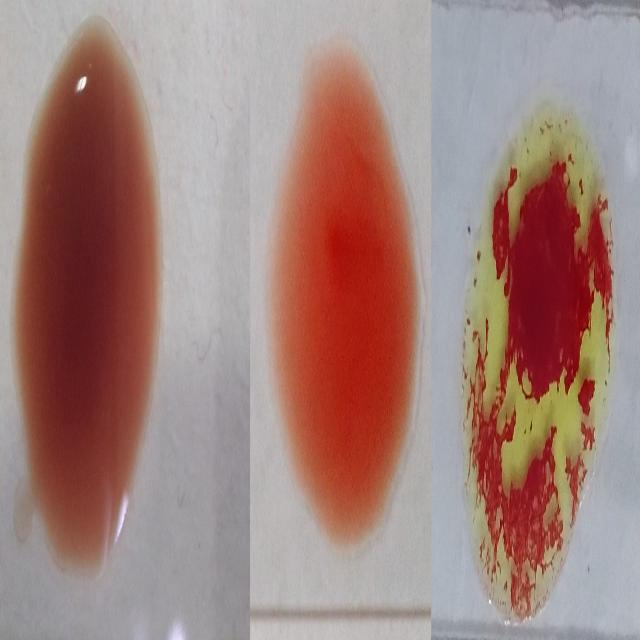B: (456, 115, 612, 609)
